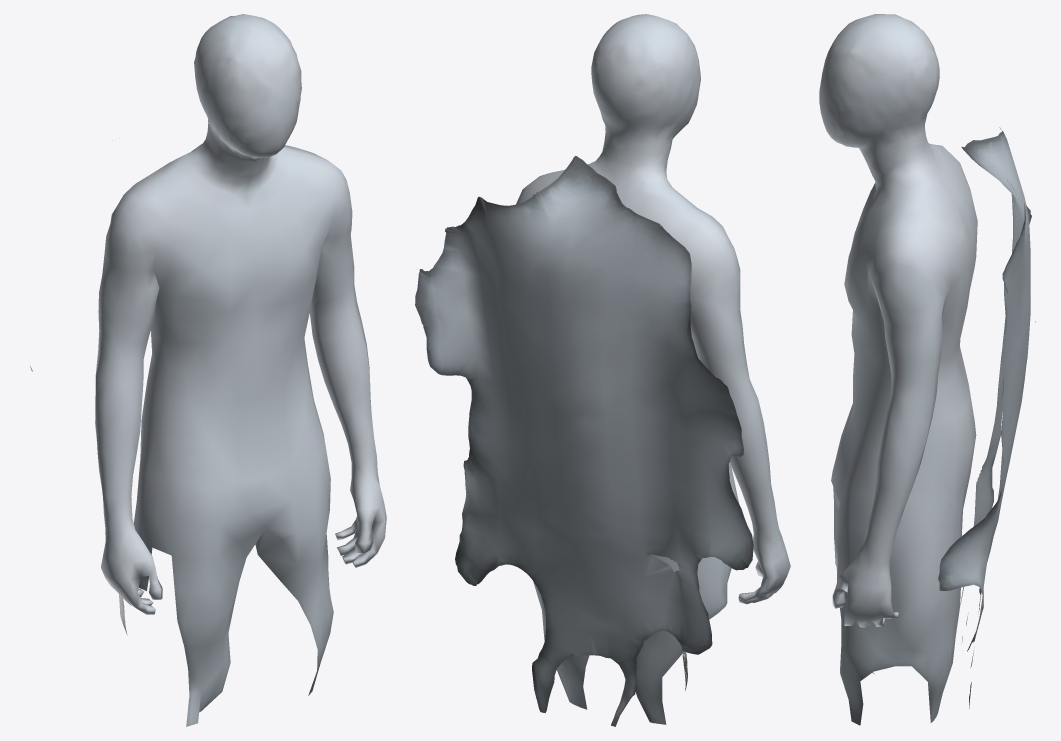
File: selected.glb
The picture shows the model from 3 angles, left to right: view 1: azimuth 30°, elevation 25°; view 2: azimuth 150°, elevation 25°; view 3: azimuth 270°, elevation 25°; orthographic projection.
Parts seen in each view (by area): view 1: tripo_node_5ef5e377-9bba-41be-a9e4-d3f7902372f5; view 2: tripo_node_5ef5e377-9bba-41be-a9e4-d3f7902372f5; view 3: tripo_node_5ef5e377-9bba-41be-a9e4-d3f7902372f5.
Part boxes in pixels (x1,y1,x2,y2): tripo_node_5ef5e377-9bba-41be-a9e4-d3f7902372f5: (30, 14, 386, 726); tripo_node_5ef5e377-9bba-41be-a9e4-d3f7902372f5: (415, 14, 790, 726); tripo_node_5ef5e377-9bba-41be-a9e4-d3f7902372f5: (819, 14, 1035, 725).
Bounding box in the file's own units: 0.4785 × 0.998 × 0.3027.
Materials: 1 (1 with a texture image).
